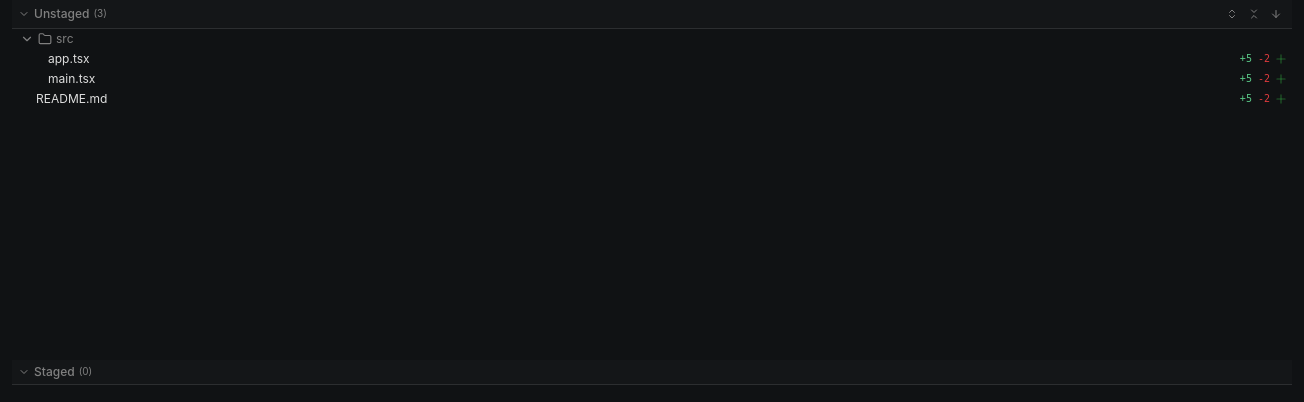
Test case: DiffFileTree › folder toggle › should collapse folder children when folder is clicked
Expected: the text "app.tsx" is shown, [48, 51, 90, 67]
# Click folder to collapse
Click the button "src". click: (27, 39)
box: [12, 29, 1292, 49]
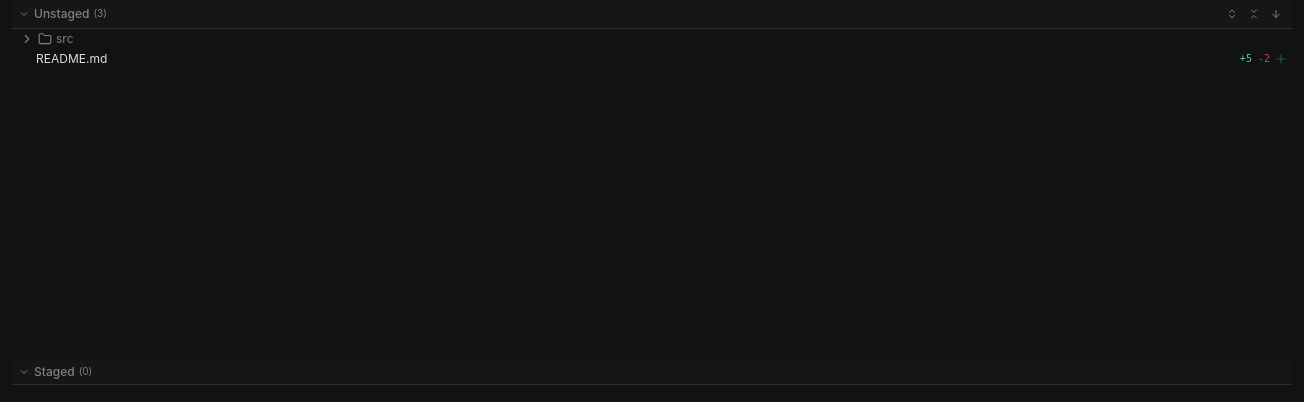
Expected: the button "app.tsx" is gone
